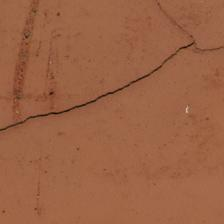Crack: (0, 26, 123, 94), (6, 32, 56, 149), (86, 79, 109, 146)
